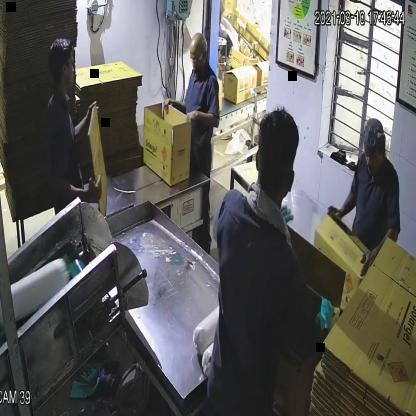no_glove: (47, 163, 115, 220), (357, 223, 402, 286), (319, 182, 363, 236), (70, 99, 101, 145), (185, 103, 221, 138)
